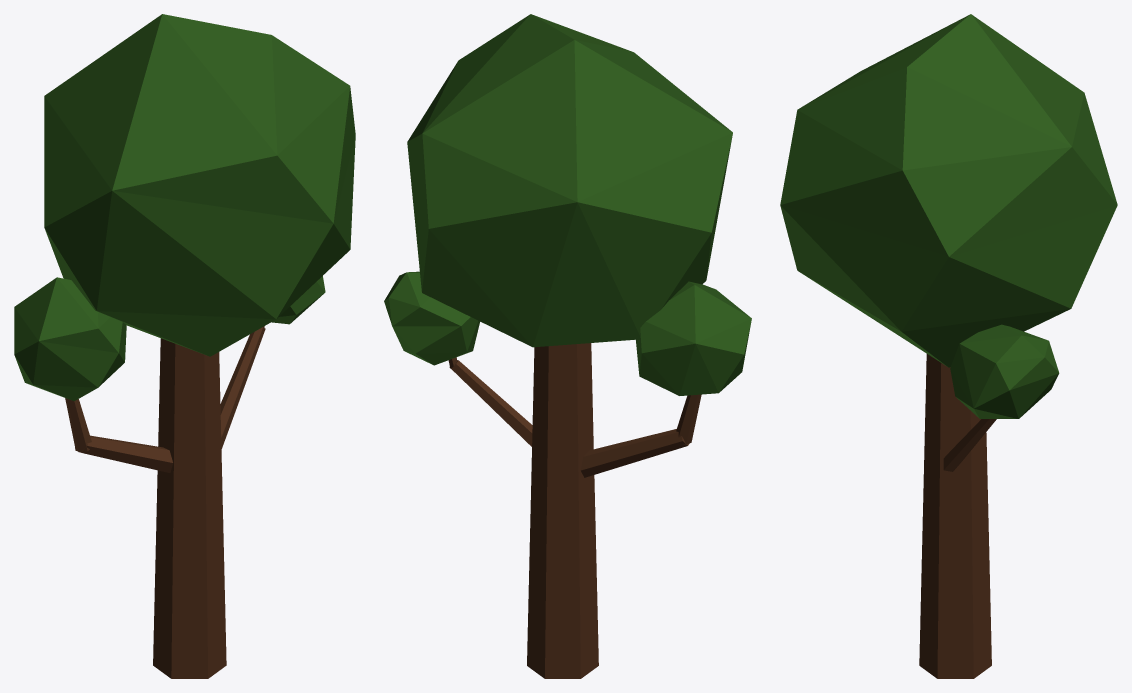
File: tree1.dae
3 views of the same model, side by side, from view 1: azimuth 30°, elevation 25°; view 2: azimuth 150°, elevation 25°; view 3: azimuth 270°, elevation 25° (orthographic). The views are drawn at different scales.
Parts seen in each view (by area): view 1: Leaves, Trunk, branch1, branch2; view 2: Leaves, Trunk, branch1, branch2; view 3: Leaves, Trunk, branch2.
Part boxes in pixels (left/top/right/bottom): Leaves: left=14, top=14, right=355, bottom=401; Trunk: left=153, top=338, right=226, bottom=678; branch1: left=65, top=398, right=172, bottom=472; branch2: left=220, top=326, right=265, bottom=448; Leaves: left=384, top=14, right=751, bottom=395; Trunk: left=527, top=343, right=598, bottom=678; branch1: left=580, top=394, right=701, bottom=477; branch2: left=448, top=357, right=532, bottom=446; Leaves: left=780, top=14, right=1117, bottom=418; Trunk: left=919, top=354, right=991, bottom=678; branch2: left=943, top=419, right=996, bottom=471.
Size of the model in its own units: 2.03 by 1.76 by 3.69.
